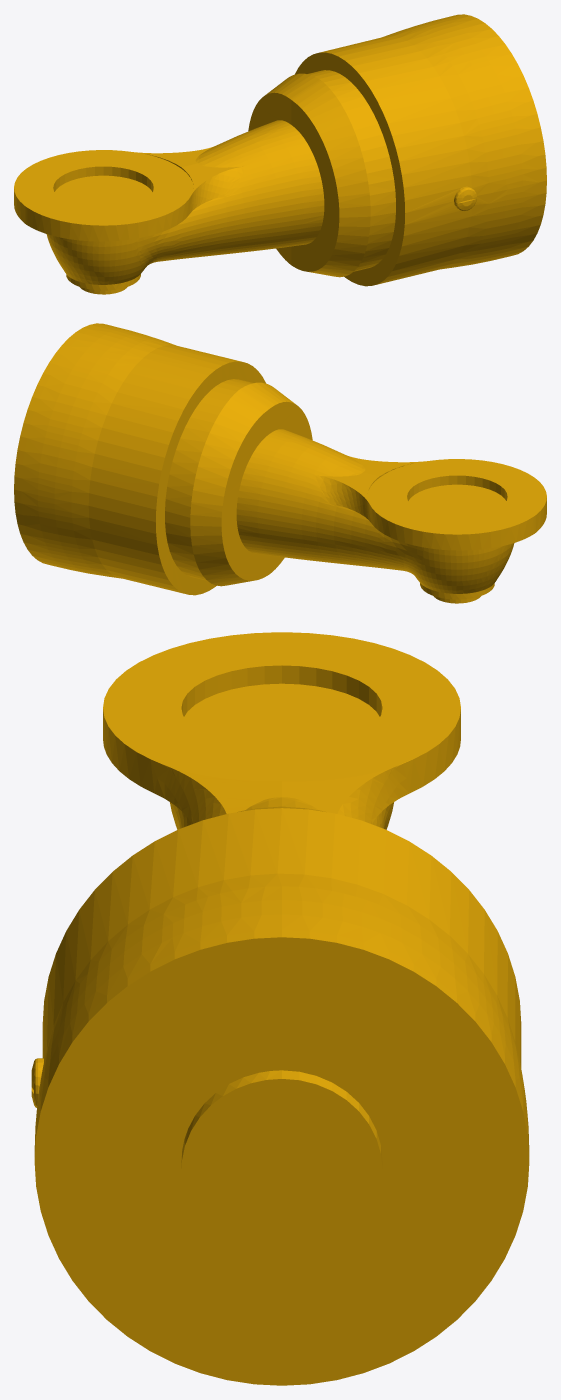
3 renders of one model, top to bottom at view 1: azimuth 30°, elevation 25°; view 2: azimuth 150°, elevation 25°; view 3: azimuth 270°, elevation 25°, orthographic. The views are drawn at different scales.
Visible parts, largest first — view 1: ShapeIndexedFaceSet_042, ShapeIndexedFaceSet_078, ShapeIndexedFaceSet_080, ShapeIndexedFaceSet_031, ShapeIndexedFaceSet_046, ShapeIndexedFaceSet_072, ShapeIndexedFaceSet_077, ShapeIndexedFaceSet_079, ShapeIndexedFaceSet_074, ShapeIndexedFaceSet_039, ShapeIndexedFaceSet_044, ShapeIndexedFaceSet_026 (+12 smaller); view 2: ShapeIndexedFaceSet_061, ShapeIndexedFaceSet_078, ShapeIndexedFaceSet_080, ShapeIndexedFaceSet_031, ShapeIndexedFaceSet_065, ShapeIndexedFaceSet_077, ShapeIndexedFaceSet_079, ShapeIndexedFaceSet_073, ShapeIndexedFaceSet_074, ShapeIndexedFaceSet_058, ShapeIndexedFaceSet_063, ShapeIndexedFaceSet_026 (+13 smaller); view 3: ShapeIndexedFaceSet_023, ShapeIndexedFaceSet_080, ShapeIndexedFaceSet_031, ShapeIndexedFaceSet_020, ShapeIndexedFaceSet_078, ShapeIndexedFaceSet_026, ShapeIndexedFaceSet_076, ShapeIndexedFaceSet_025, ShapeIndexedFaceSet_033, ShapeIndexedFaceSet_052, ShapeIndexedFaceSet_054, ShapeIndexedFaceSet_035 (+3 smaller).
Boxes of the visible parts, x1,y1,x2,y2 form: ShapeIndexedFaceSet_042: [164, 125, 324, 260]; ShapeIndexedFaceSet_078: [382, 16, 539, 195]; ShapeIndexedFaceSet_080: [320, 36, 471, 212]; ShapeIndexedFaceSet_031: [14, 150, 193, 225]; ShapeIndexedFaceSet_046: [292, 81, 370, 277]; ShapeIndexedFaceSet_072: [307, 70, 395, 271]; ShapeIndexedFaceSet_077: [441, 182, 539, 269]; ShapeIndexedFaceSet_079: [376, 201, 471, 284]; ShapeIndexedFaceSet_074: [295, 52, 404, 286]; ShapeIndexedFaceSet_039: [53, 236, 144, 284]; ShapeIndexedFaceSet_044: [291, 100, 339, 271]; ShapeIndexedFaceSet_026: [54, 175, 152, 208]; ShapeIndexedFaceSet_061: [236, 434, 396, 569]; ShapeIndexedFaceSet_078: [21, 325, 175, 505]; ShapeIndexedFaceSet_080: [88, 345, 240, 521]; ShapeIndexedFaceSet_031: [367, 459, 546, 534]; ShapeIndexedFaceSet_065: [190, 390, 268, 586]; ShapeIndexedFaceSet_077: [21, 491, 121, 578]; ShapeIndexedFaceSet_079: [88, 506, 183, 593]; ShapeIndexedFaceSet_073: [165, 417, 213, 580]; ShapeIndexedFaceSet_074: [156, 361, 265, 595]; ShapeIndexedFaceSet_058: [416, 545, 507, 593]; ShapeIndexedFaceSet_063: [221, 409, 269, 580]; ShapeIndexedFaceSet_026: [408, 484, 506, 517]; ShapeIndexedFaceSet_023: [34, 937, 529, 1385]; ShapeIndexedFaceSet_080: [42, 808, 521, 1067]; ShapeIndexedFaceSet_031: [103, 632, 460, 781]; ShapeIndexedFaceSet_020: [181, 1079, 382, 1260]; ShapeIndexedFaceSet_078: [34, 873, 529, 1149]; ShapeIndexedFaceSet_026: [184, 683, 379, 750]; ShapeIndexedFaceSet_076: [34, 930, 529, 1156]; ShapeIndexedFaceSet_025: [181, 665, 382, 716]; ShapeIndexedFaceSet_033: [154, 764, 221, 824]; ShapeIndexedFaceSet_052: [342, 764, 409, 824]; ShapeIndexedFaceSet_054: [282, 768, 391, 813]; ShapeIndexedFaceSet_035: [172, 768, 281, 813].
Size of the model in its own units: 0.5371 by 0.2475 by 0.246.
